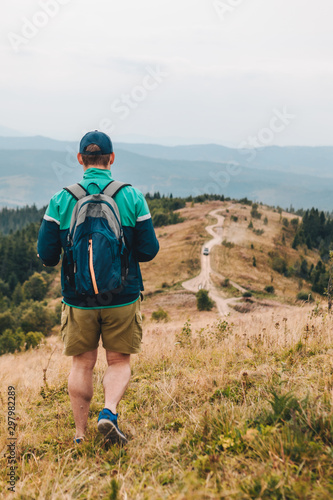person: (36, 128, 160, 455)
